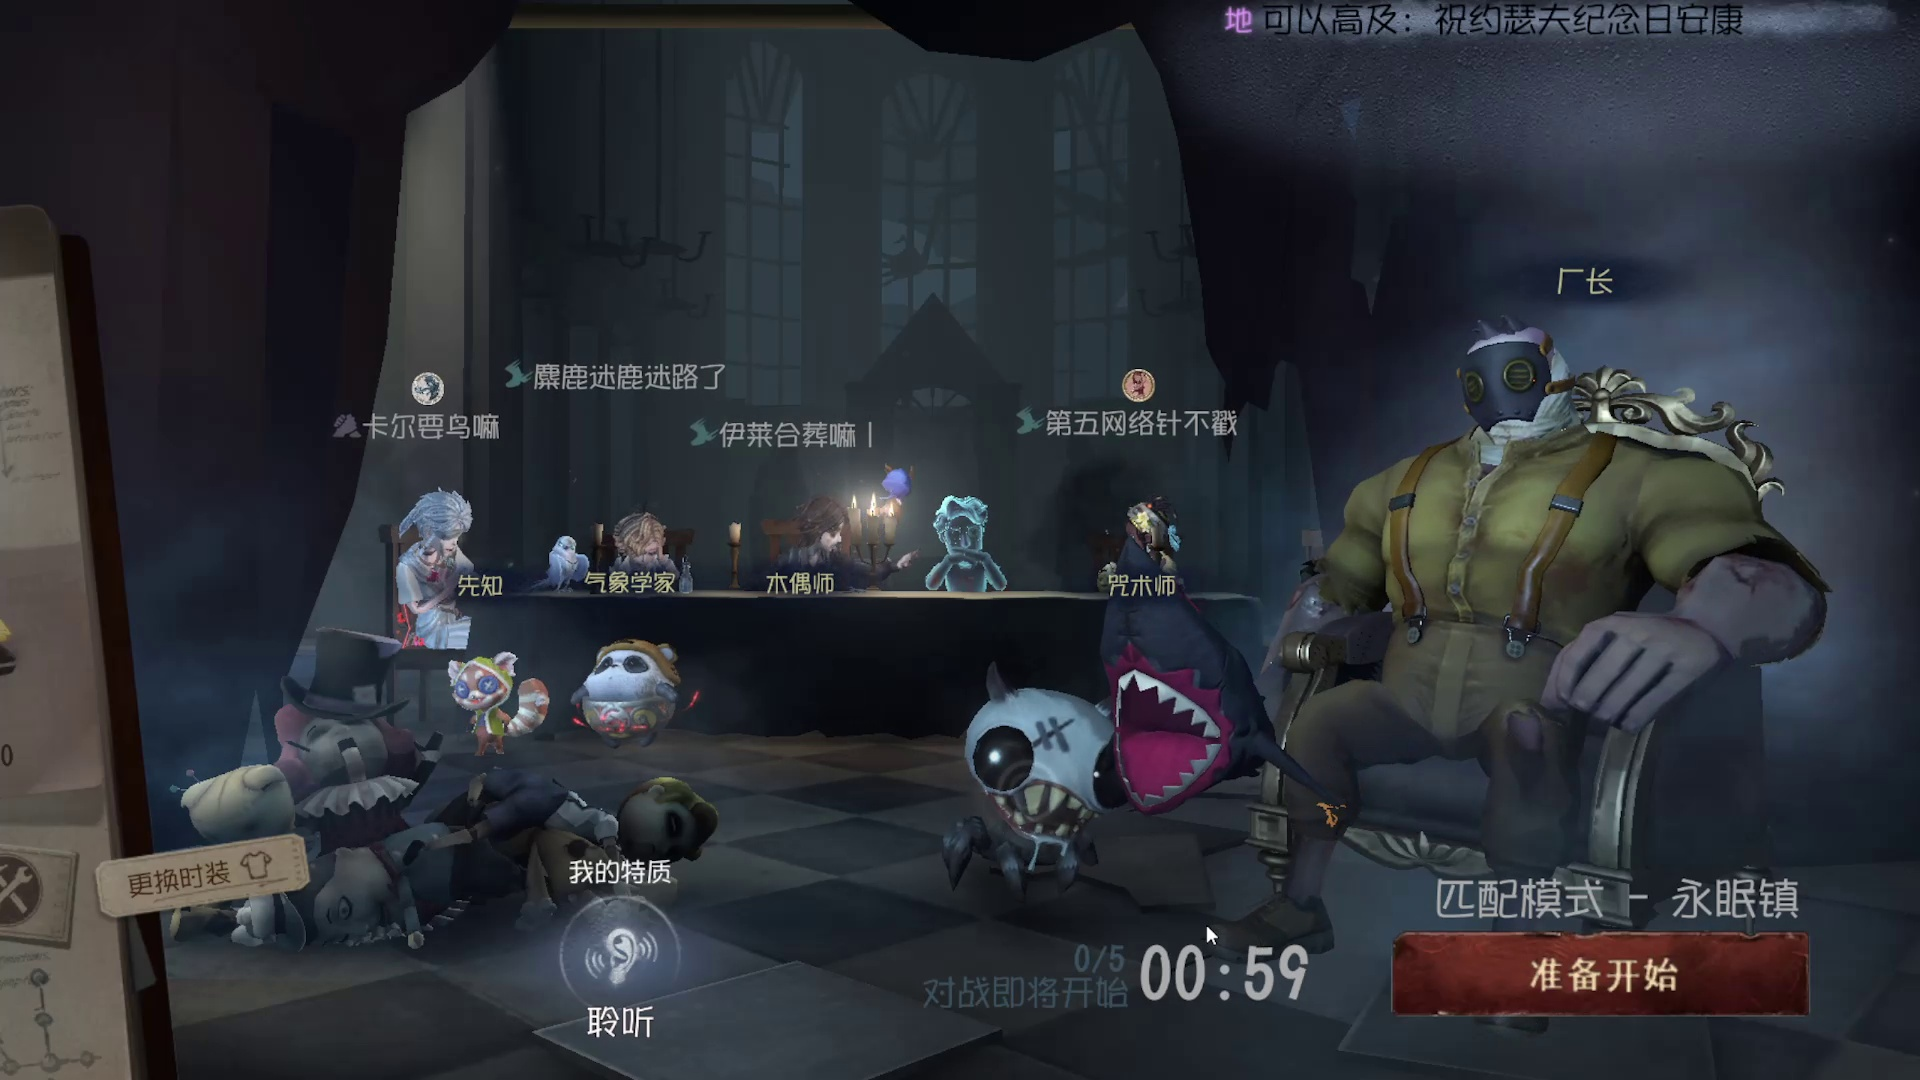准备开始: (1353, 895, 1832, 1047)
